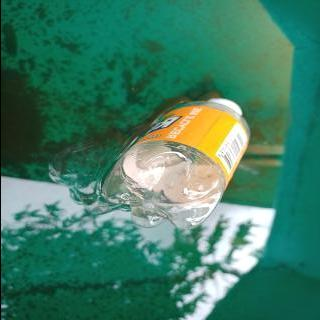bottle: (98, 94, 252, 231)
